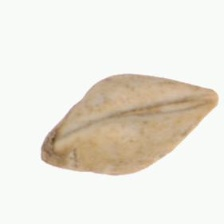L1: (187, 80, 220, 119), (39, 125, 64, 170)
L2: (40, 74, 219, 176)
